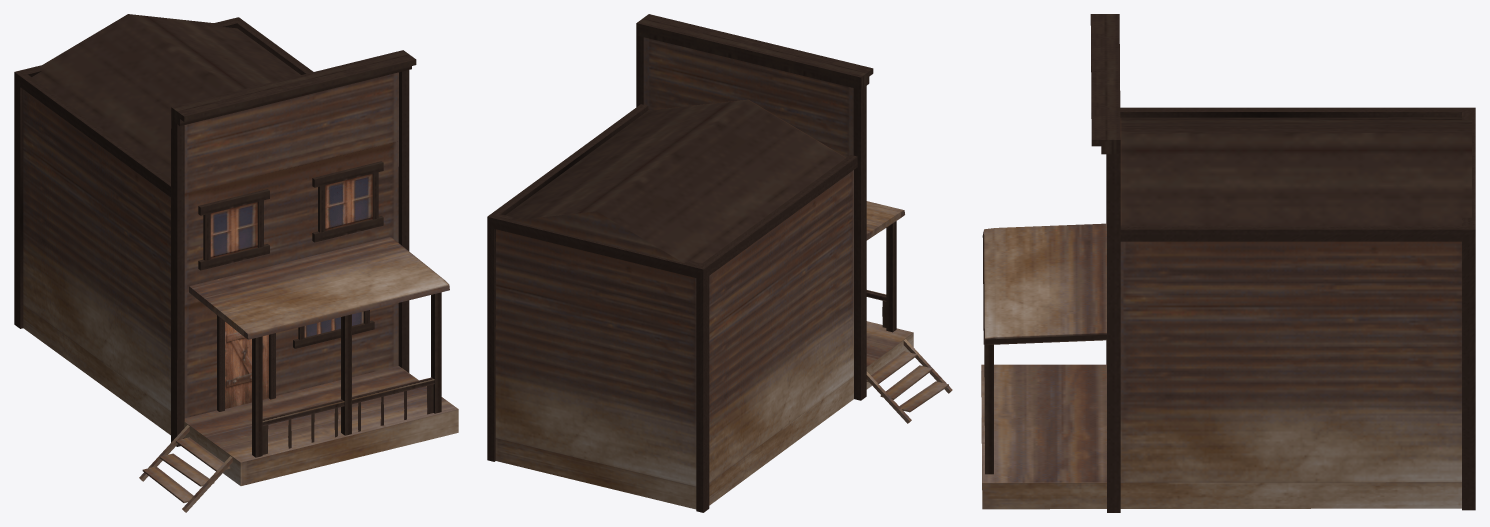
The model's file is Western_house_1.fbx.
The picture shows the model from 3 angles, left to right: view 1: azimuth 30°, elevation 25°; view 2: azimuth 150°, elevation 25°; view 3: azimuth 270°, elevation 25°; orthographic projection. The views are drawn at different scales.
Visible parts, largest first — view 1: House; view 2: House; view 3: House.
Boxes of the visible parts, box(x1,y1,x2,y2) form: House: box(14, 14, 458, 512); House: box(487, 14, 952, 512); House: box(981, 14, 1475, 512).
Size of the model in its own units: 5.71 by 7.1 by 8.02.
Materials: 1 (1 with a texture image).
